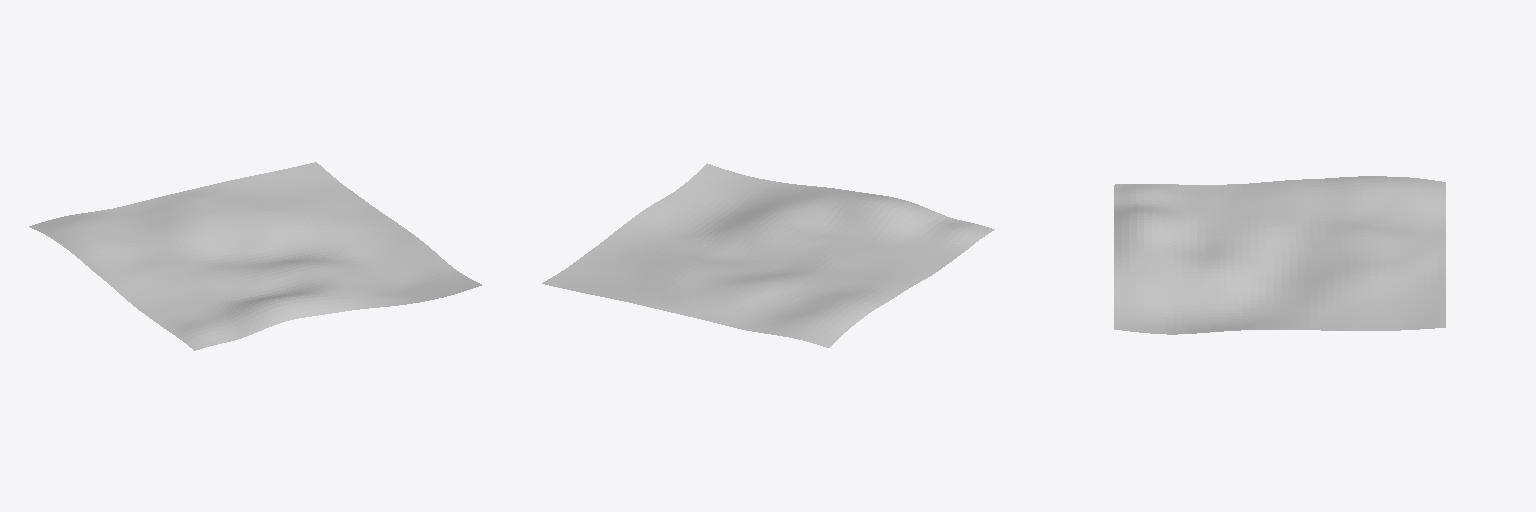
File: ground.obj
3 renders of one model, left to right at view 1: azimuth 30°, elevation 25°; view 2: azimuth 150°, elevation 25°; view 3: azimuth 270°, elevation 25°, orthographic.
Visible parts, largest first — view 1: Plane; view 2: Plane; view 3: Plane.
Boxes of the visible parts, <box> form: Plane: <box>29,162,481,350</box>; Plane: <box>542,163,994,347</box>; Plane: <box>1114,176,1445,334</box>.
Size of the model in its own units: 127 by 11.76 by 127.